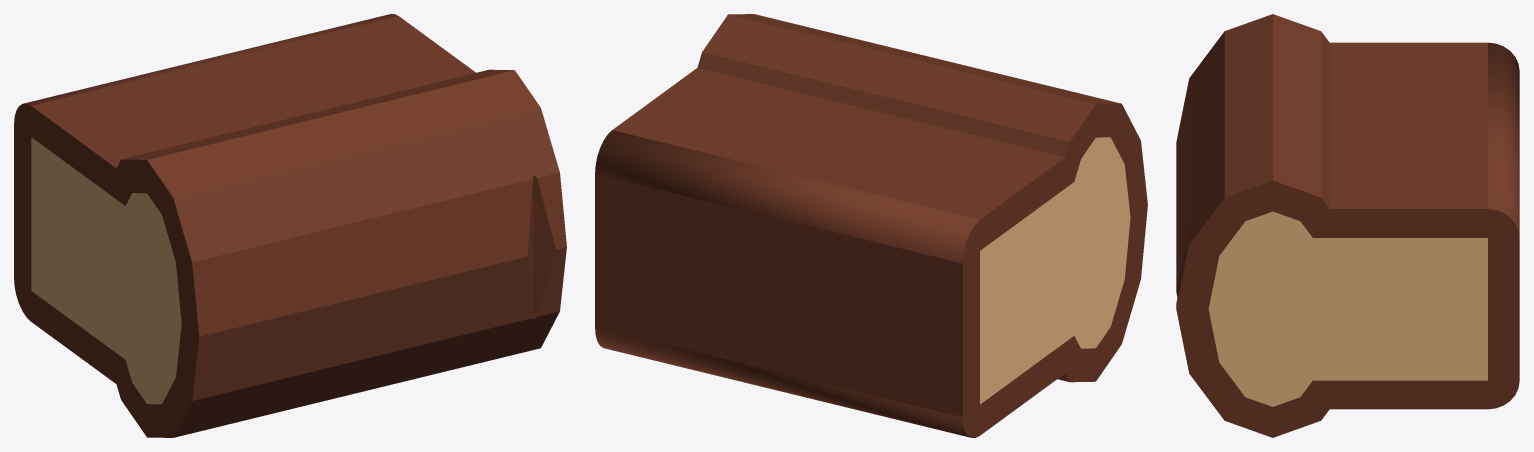
Rendered from breadS1_visual.obj.
The picture shows the model from 3 angles, left to right: view 1: azimuth 30°, elevation 25°; view 2: azimuth 150°, elevation 25°; view 3: azimuth 270°, elevation 25°; orthographic projection. The views are drawn at different scales.
Visible parts, largest first — view 1: loaf_ID7.005; view 2: loaf_ID7.005; view 3: loaf_ID7.005.
Part boxes in pixels (x1,y1,x2,y2): loaf_ID7.005: [14, 14, 566, 437]; loaf_ID7.005: [595, 14, 1147, 437]; loaf_ID7.005: [1176, 14, 1519, 437].
Bounding box in the file's own units: 0.3506 × 0.2528 × 0.3056.
